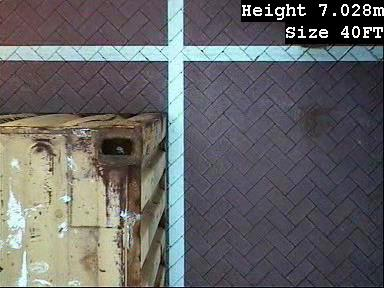groundmarker_2: (15, 1, 92, 132)
